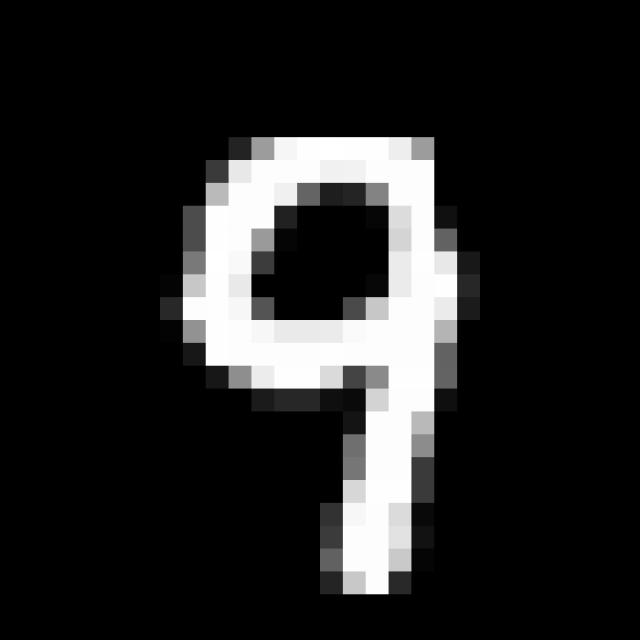nine -9-: (160, 112, 483, 608)
